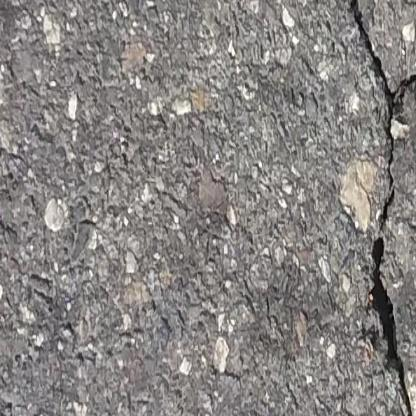Cracks: (342, 0, 416, 416)
